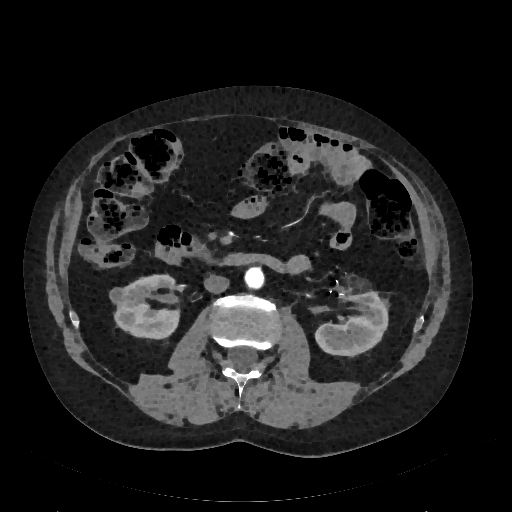Lesion: (105, 283, 129, 308)
